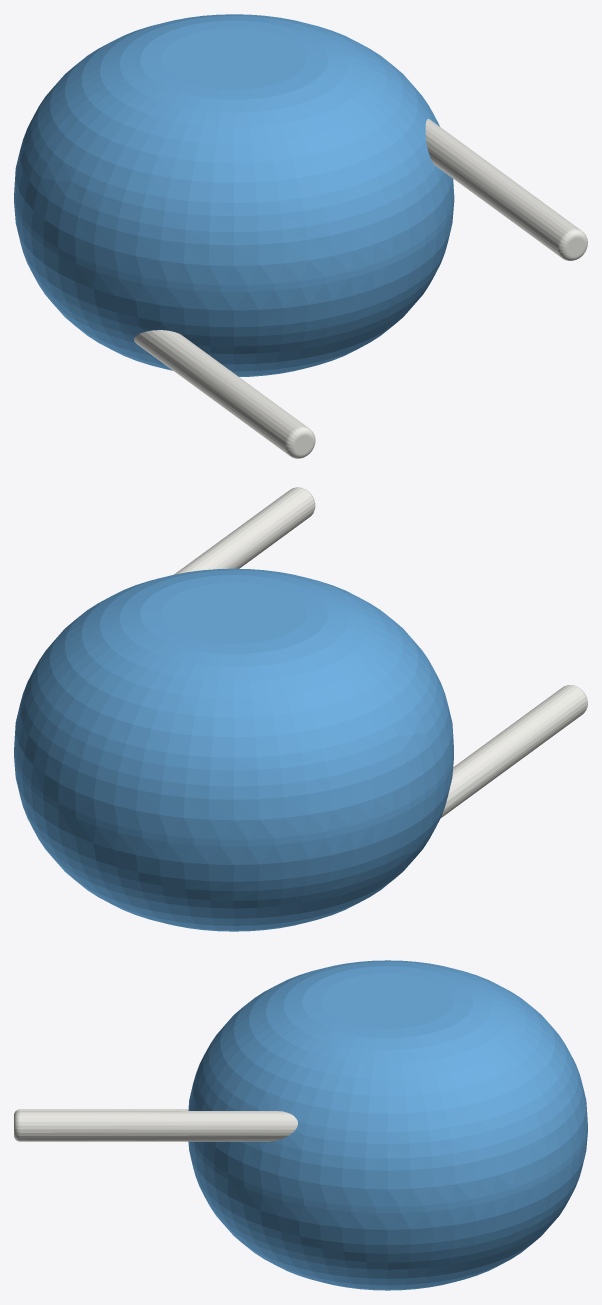
The model's file is RV_Disc_D7mm_W4.8mm_P5mm.glb.
The picture shows the model from 3 angles, top to bottom: view 1: azimuth 30°, elevation 25°; view 2: azimuth 150°, elevation 25°; view 3: azimuth 270°, elevation 25°; orthographic projection. The views are drawn at different scales.
Visible parts, largest first — view 1: Shape_IndexedFaceSet.001, Shape_IndexedFaceSet.002, Shape_IndexedFaceSet.003, Shape_IndexedFaceSet.006, Shape_IndexedFaceSet.004, Shape_IndexedFaceSet; view 2: Shape_IndexedFaceSet.001, Shape_IndexedFaceSet.002, Shape_IndexedFaceSet.003, Shape_IndexedFaceSet.006, Shape_IndexedFaceSet.004, Shape_IndexedFaceSet; view 3: Shape_IndexedFaceSet.001, Shape_IndexedFaceSet.002, Shape_IndexedFaceSet.004, Shape_IndexedFaceSet.003, Shape_IndexedFaceSet.
Boxes of the visible parts, x1=… form: Shape_IndexedFaceSet.001: x1=14, y1=14, x2=454, y2=285; Shape_IndexedFaceSet.002: x1=14, y1=202, x2=454, y2=376; Shape_IndexedFaceSet.003: x1=161, y1=28, x2=306, y2=89; Shape_IndexedFaceSet.006: x1=134, y1=330, x2=307, y2=454; Shape_IndexedFaceSet.004: x1=425, y1=119, x2=581, y2=256; Shape_IndexedFaceSet: x1=14, y1=196, x2=454, y2=291; Shape_IndexedFaceSet.001: x1=14, y1=568, x2=453, y2=839; Shape_IndexedFaceSet.002: x1=14, y1=757, x2=453, y2=931; Shape_IndexedFaceSet.003: x1=161, y1=582, x2=306, y2=643; Shape_IndexedFaceSet.006: x1=441, y1=685, x2=586, y2=817; Shape_IndexedFaceSet.004: x1=174, y1=487, x2=314, y2=574; Shape_IndexedFaceSet: x1=14, y1=751, x2=453, y2=846; Shape_IndexedFaceSet.001: x1=188, y1=960, x2=587, y2=1206; Shape_IndexedFaceSet.002: x1=188, y1=1132, x2=587, y2=1290; Shape_IndexedFaceSet.004: x1=20, y1=1111, x2=297, y2=1141; Shape_IndexedFaceSet.003: x1=321, y1=973, x2=453, y2=1028; Shape_IndexedFaceSet: x1=190, y1=1126, x2=587, y2=1212.
Bounding box in the file's own units: 2.75 × 1.89 × 3.95.
